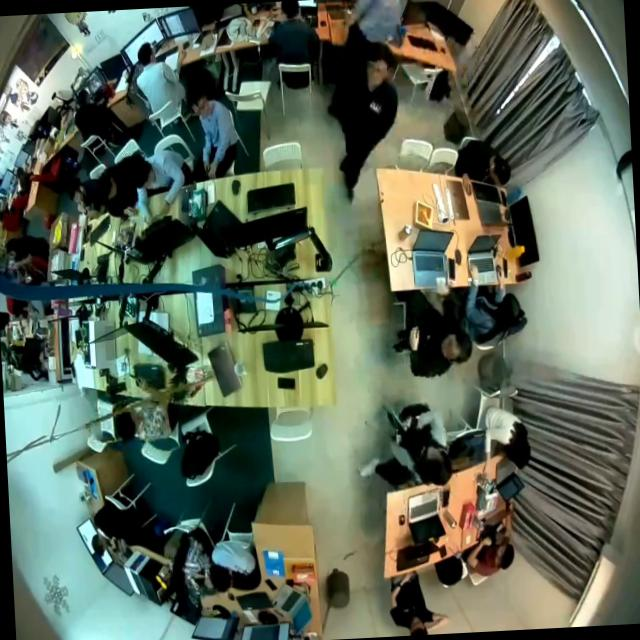employee_tag: (370, 99, 384, 116)
